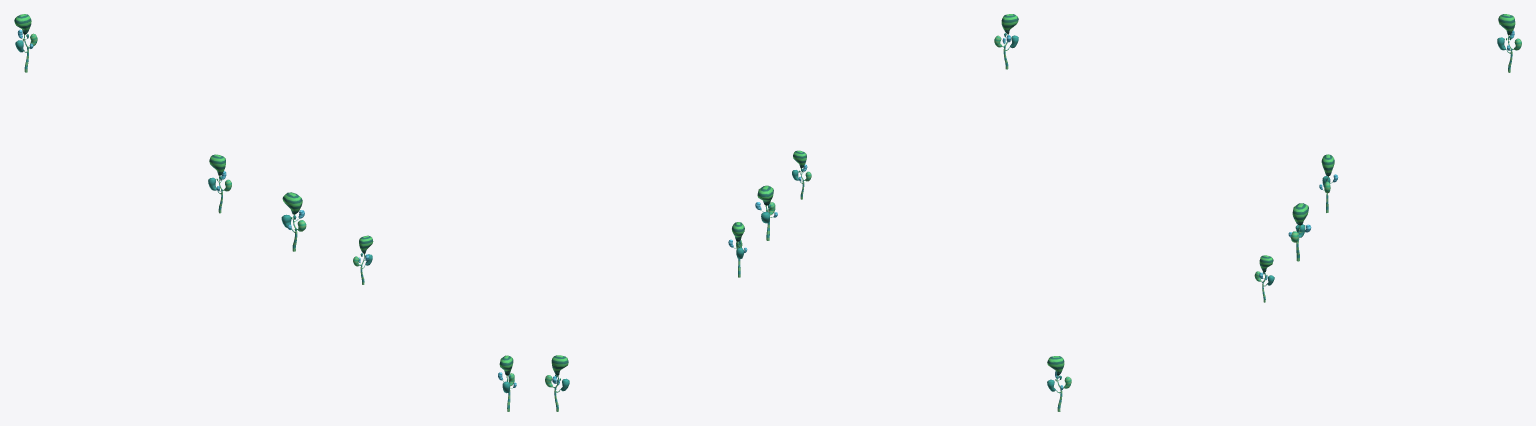
The model's file is treeF.fbx.
3 renders of one model, left to right at view 1: azimuth 30°, elevation 25°; view 2: azimuth 150°, elevation 25°; view 3: azimuth 330°, elevation 25°, orthographic. The views are drawn at different scales.
Parts seen in each view (by area): view 1: treeF; view 2: treeF; view 3: treeF.
Boxes of the visible parts, <box> form: treeF: <box>14,14,516,411</box>; treeF: <box>545,14,1018,411</box>; treeF: <box>1047,14,1521,411</box>.
Size of the model in its own units: 315 by 312 by 4082.
